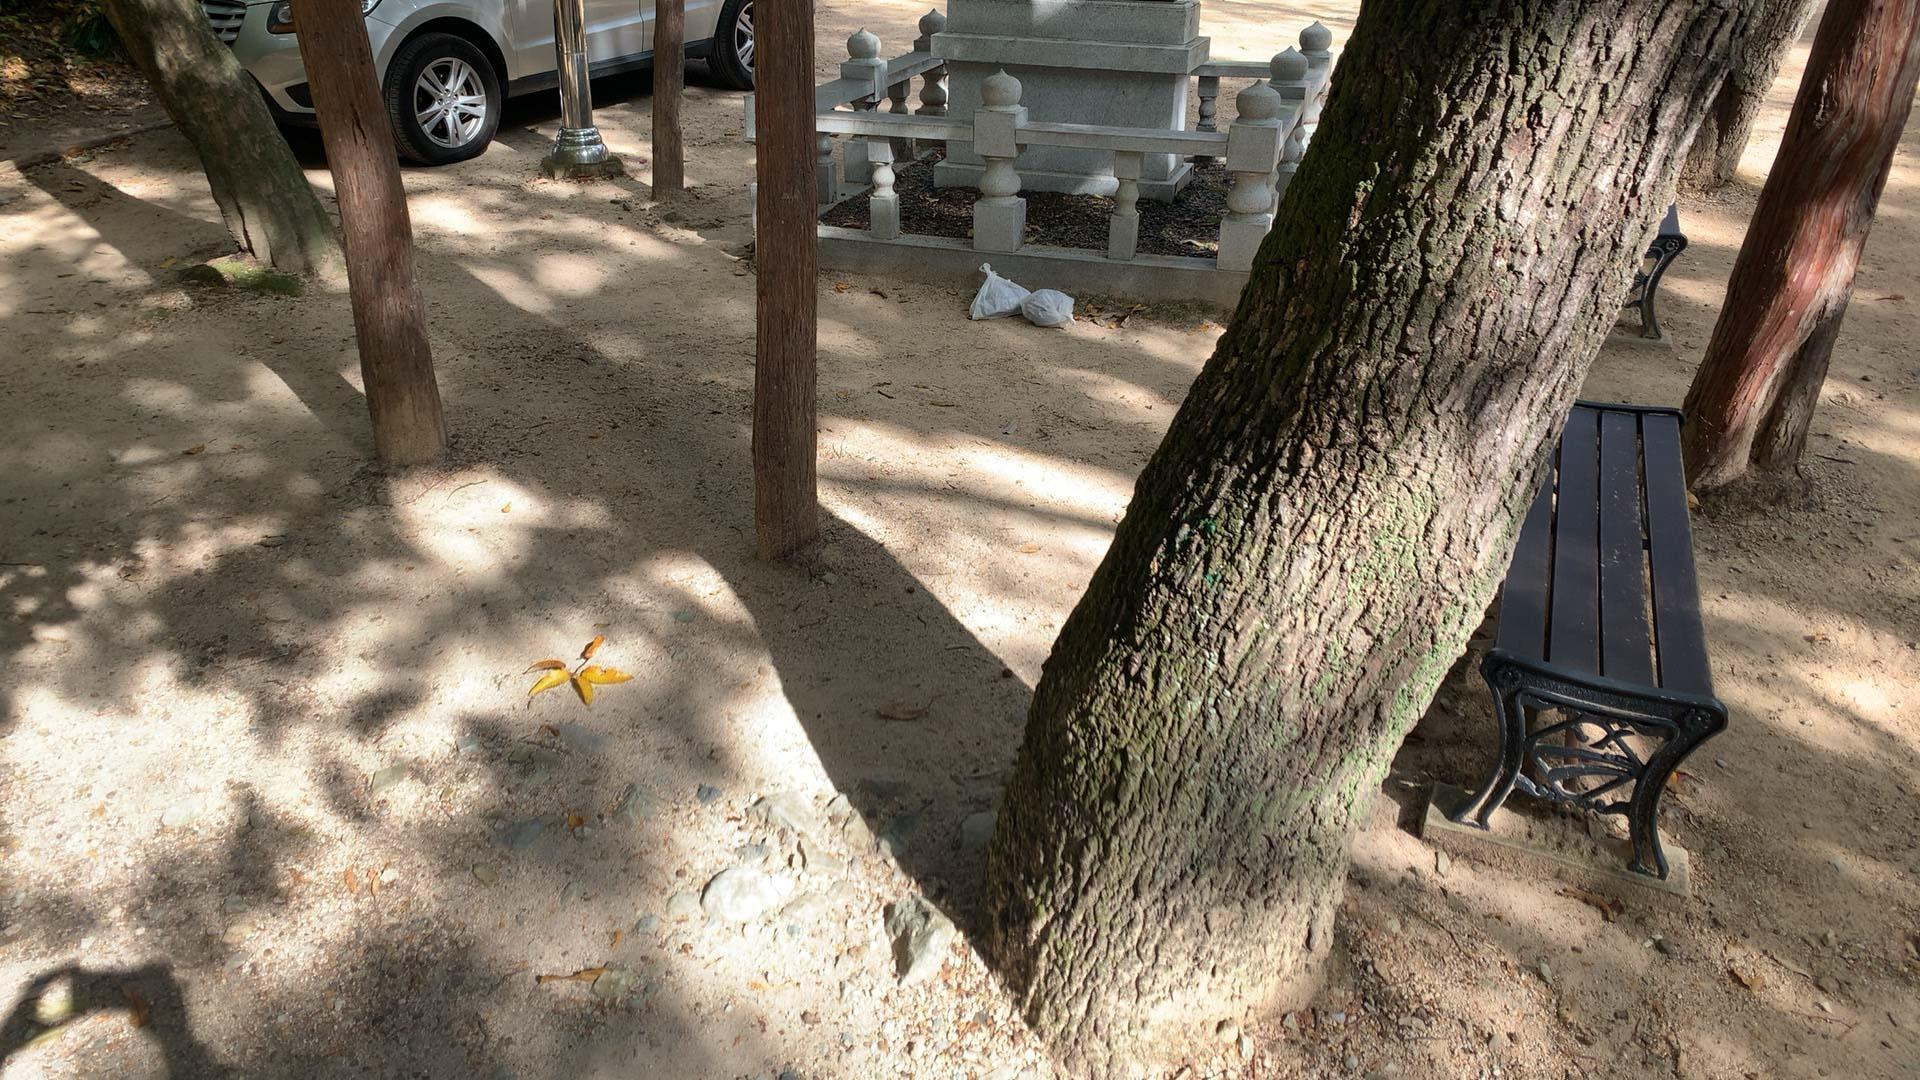white_bag: (964, 259, 1034, 319), (1018, 287, 1080, 330)
